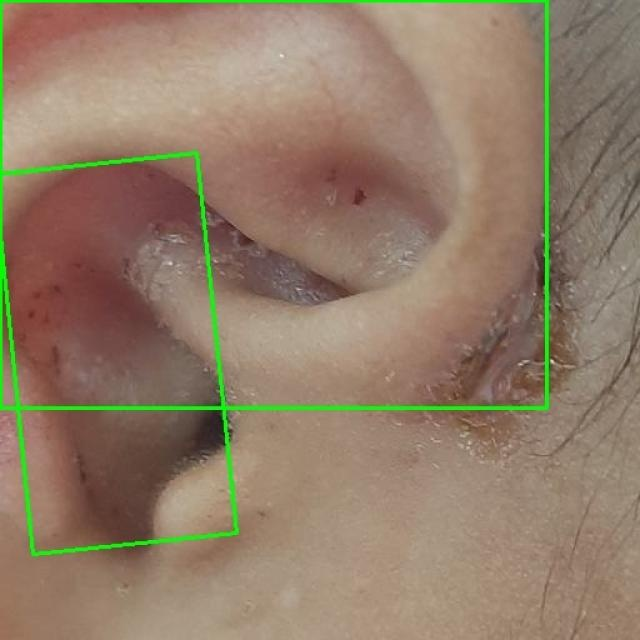Eczema: (0, 0, 546, 408), (0, 153, 238, 555)
